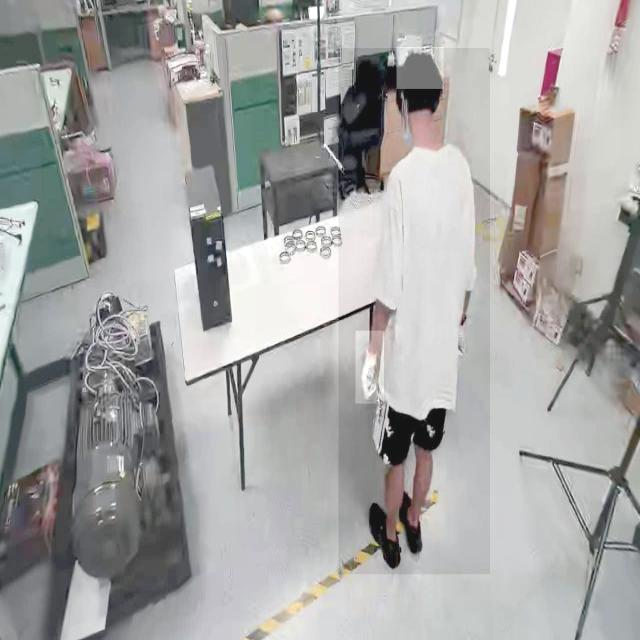hand_glove: (355, 330, 384, 404)
head_nohelmet: (396, 47, 444, 90)
person: (338, 48, 490, 575)
shoes: (366, 502, 404, 570), (398, 485, 426, 558)
